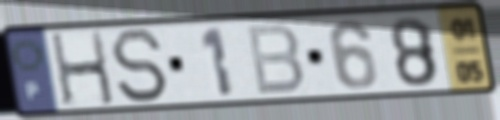1: (199, 25, 237, 98)
6: (326, 18, 379, 92)
8: (387, 15, 441, 88)
B: (243, 21, 307, 98)
H: (48, 29, 118, 109)
S: (107, 26, 171, 105)
